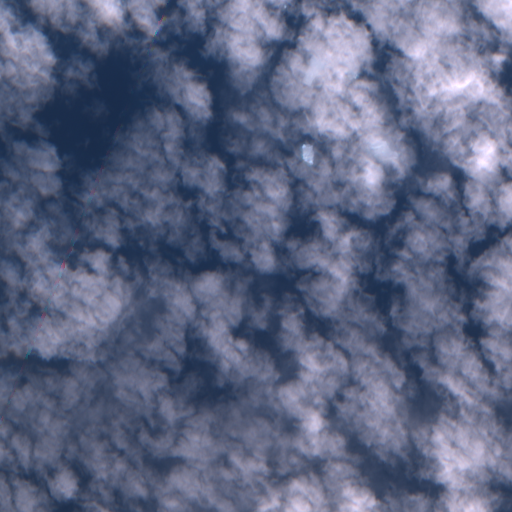Iceberg: (302, 144, 313, 163)
